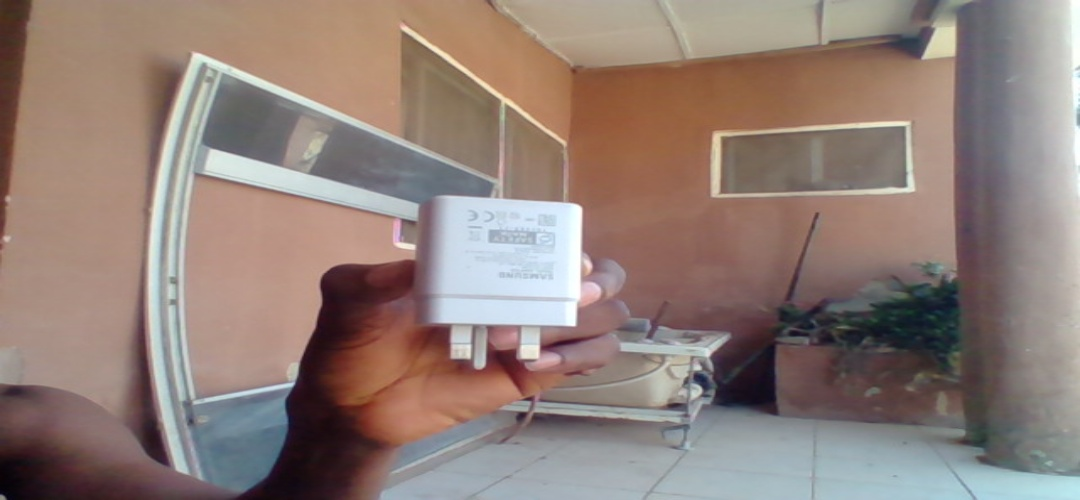phone_charger: (415, 192, 586, 371)
